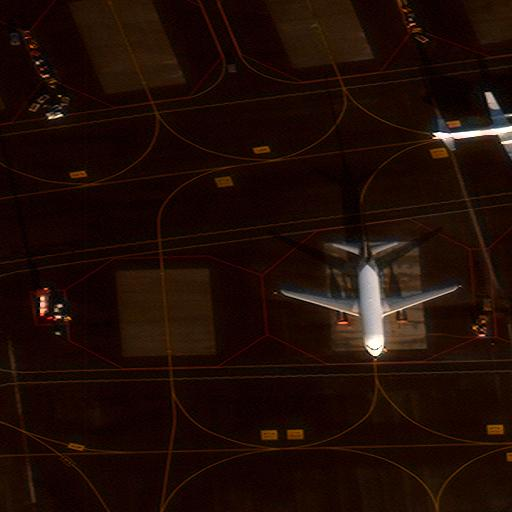Medium Civil Transport: (282, 231, 456, 357), (432, 90, 512, 161)
